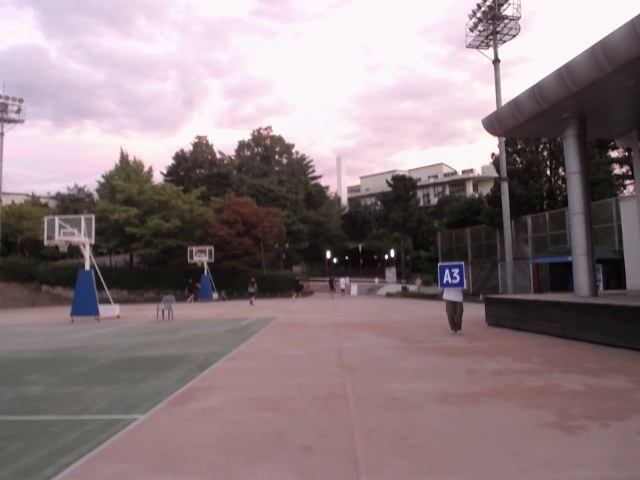delivery_a3: (439, 262, 465, 289)
